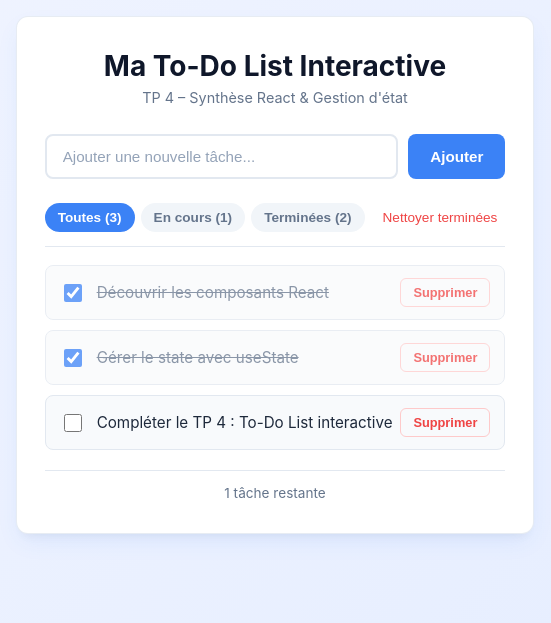
permet d'ajouter une nouvelle tâche
Type "Tester mon application React" into the field with placeholder "Ajouter une nouvelle tâche...". click: (221, 156)
box: [45,134,398,179]
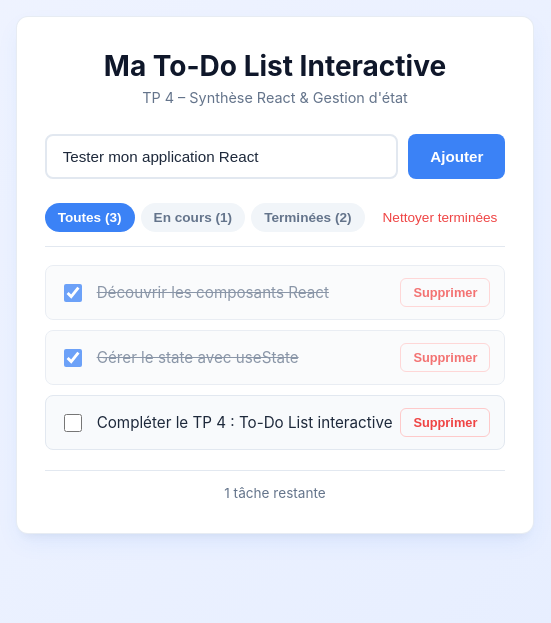
Click the button "Ajouter". click: (457, 156)
box: [408,134,505,179]
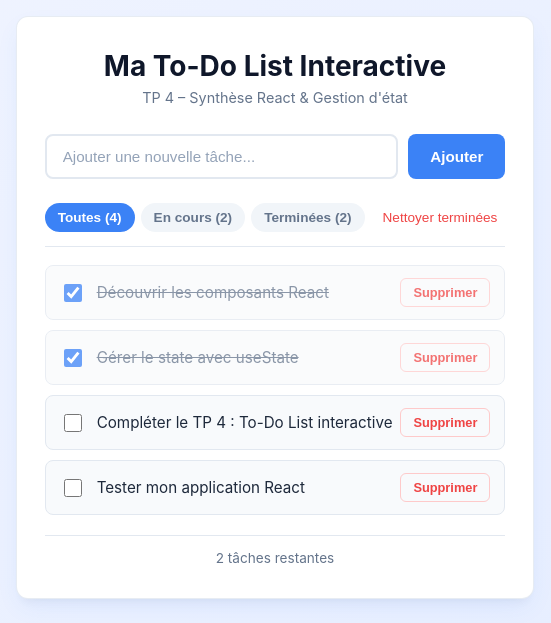
Check: the text "Tester mon application React" is shown, box [97,478,305,497]
Check: the field with placeholder "Ajouter une nouvelle tâche..." is empty, box [45,134,398,179]
